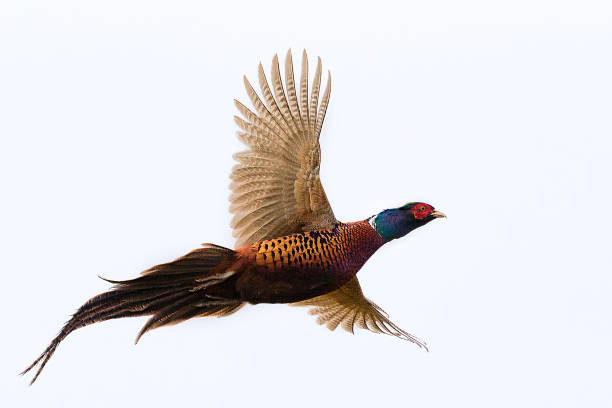Bird: (15, 44, 448, 388)
